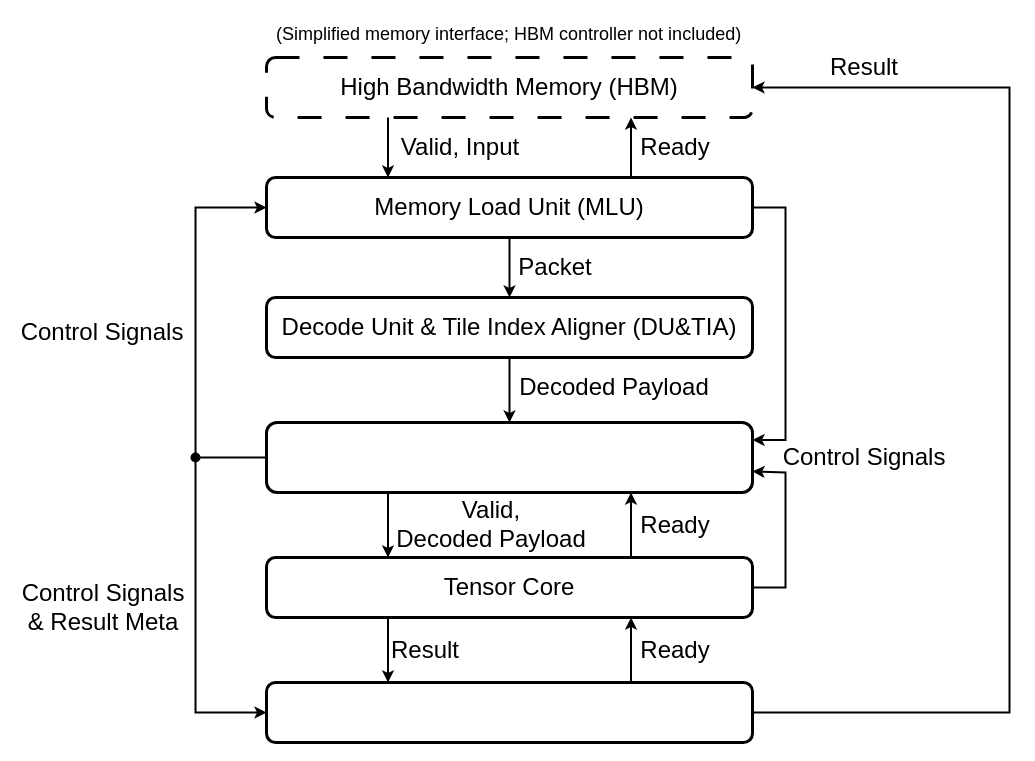
Image size: 1035x761. Some labels were removed from this diagram. The shapes that lost their labels are listed below. From the top down, each one's centre as x and y in pixels, then its label:
the point at 509,457: Bridge / Packet FIFO
the point at 509,712: Memory Store Unit (MSU)
